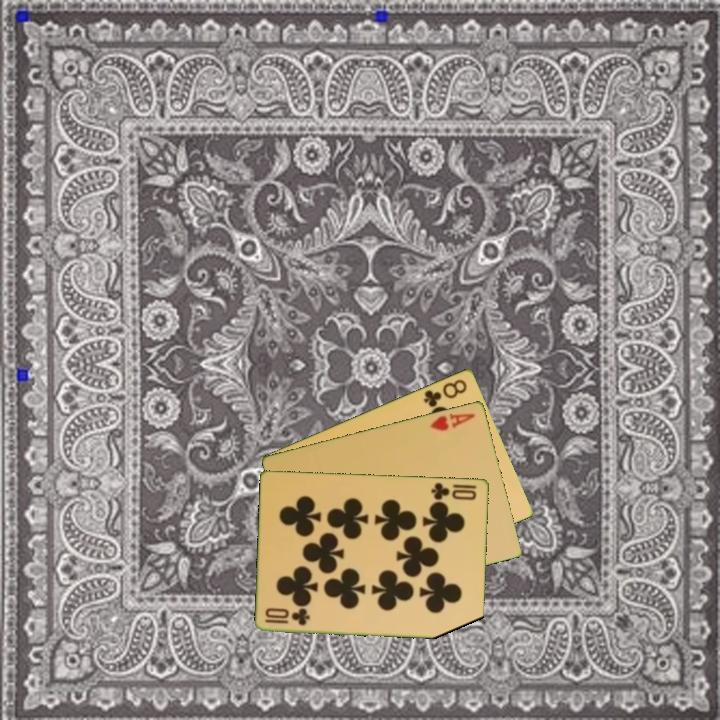10c: (428, 479, 479, 503), (262, 606, 313, 628)
8c: (420, 375, 470, 410)
Ah: (426, 409, 478, 433)
